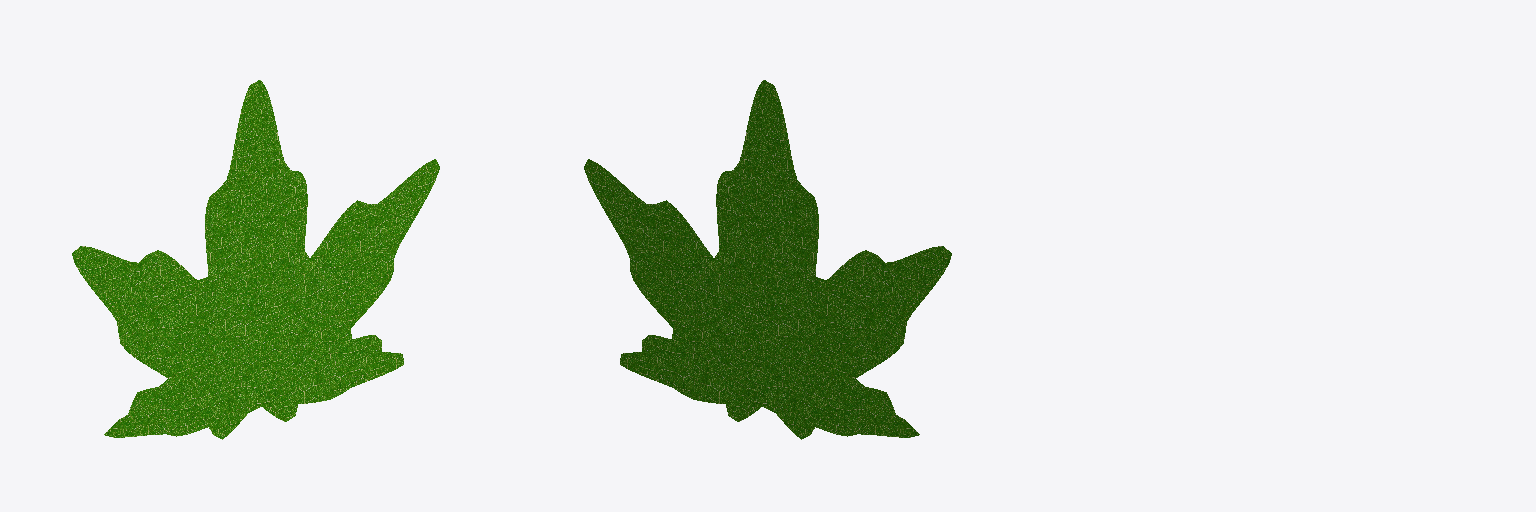
3 renders of one model, left to right at view 1: azimuth 30°, elevation 25°; view 2: azimuth 150°, elevation 25°; view 3: azimuth 270°, elevation 25°, orthographic.
Parts seen in each view (by area): view 1: Leaf; view 2: Leaf; view 3: none.
Part boxes in pixels (x1,y1,x2,y2): Leaf: (72,80,439,439); Leaf: (584,80,951,439).
Size of the model in its own units: 3.45 by 3.14 by 0.
Materials: 1 (1 with a texture image).